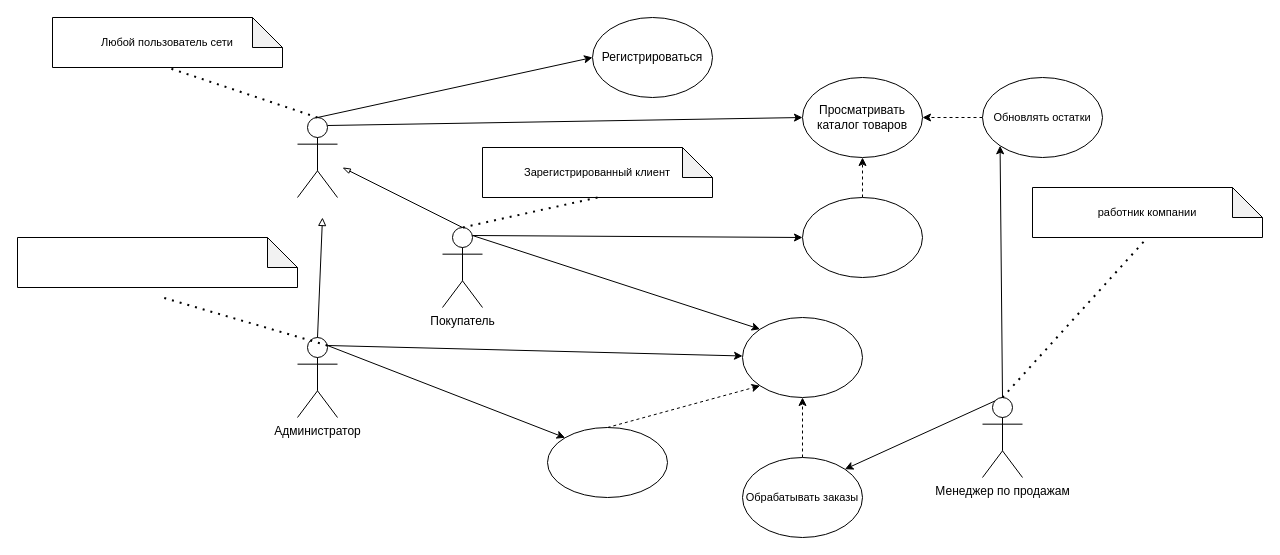
The diagram is 1280 pixels wide and 555 high, and some of its shapes have lost their labels. The shapes that lost their labels are listed below. From the top down, each one's centre as x and y in pixels, then its label:
At pixel 317 157: "Пользователь".
At pixel 862 237: "Оформлять заказ".
At pixel 157 262: "Только Администратор может изменять статус заказа".
At pixel 802 357: "Просматривать заказы".
At pixel 607 462: "Изменять статус заказа".
